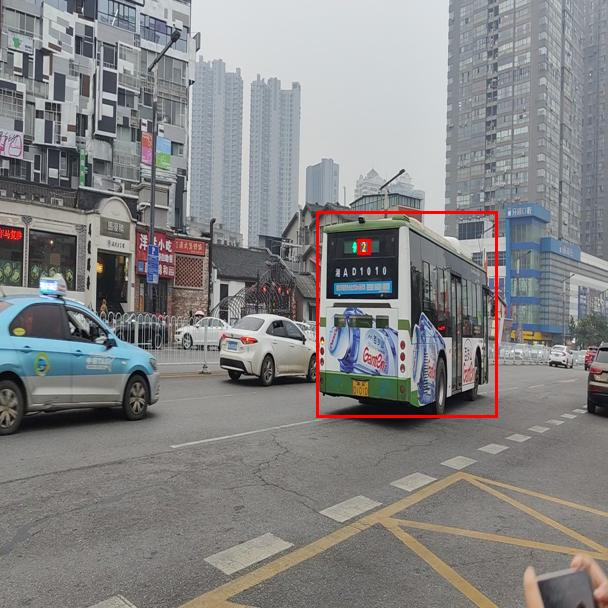bus: (316, 211, 497, 417)
screen: (357, 239, 370, 254)
